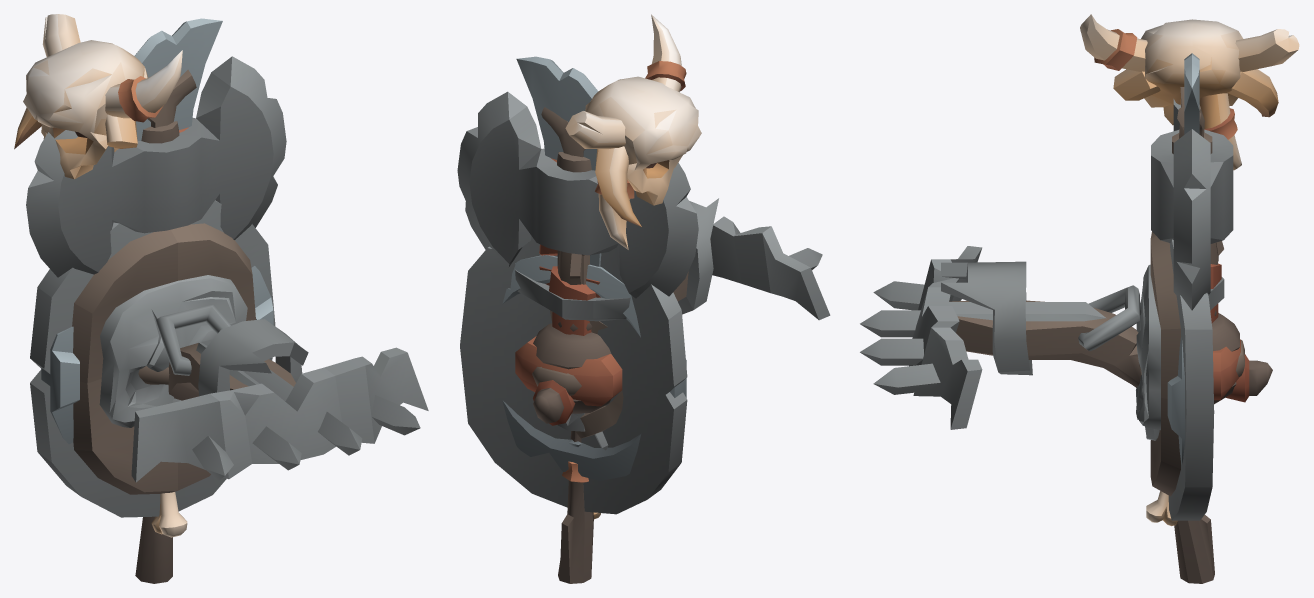
The model's file is weapons.glb.
The picture shows the model from 3 angles, left to right: view 1: azimuth 30°, elevation 25°; view 2: azimuth 150°, elevation 25°; view 3: azimuth 270°, elevation 25°; orthographic projection. The views are drawn at different scales.
Visible parts, largest first — view 1: Skeleton_Shield_Large_A, Skeleton_Crossbow, Skeleton_Axe, Skeleton_Staff, Skeleton_Blade, Skeleton_Shield_Small_A; view 2: Skeleton_Shield_Large_A, Skeleton_Axe, Skeleton_Staff, Skeleton_Crossbow, Skeleton_Blade, Skeleton_Shield_Small_A, smokebomb; view 3: Skeleton_Crossbow, Skeleton_Staff, Skeleton_Shield_Large_A, Skeleton_Axe, Skeleton_Blade, Skeleton_Shield_Small_A, smokebomb.
Part boxes in pixels (x1,y1,x2,y2): Skeleton_Shield_Large_A: (30,200,275,517); Skeleton_Crossbow: (131,304,428,482); Skeleton_Axe: (26,56,286,277); Skeleton_Staff: (14,14,196,583); Skeleton_Blade: (134,18,222,140); Skeleton_Shield_Small_A: (41,266,273,444); Skeleton_Shield_Large_A: (460,236,687,514); Skeleton_Axe: (457,91,698,431); Skeleton_Staff: (541,14,701,583); Skeleton_Crossbow: (533,198,830,425); Skeleton_Blade: (515,56,630,450); Skeleton_Shield_Small_A: (502,255,686,480); smokebomb: (532,322,611,413); Skeleton_Crossbow: (860,246,1272,429); Skeleton_Staff: (1080,14,1299,583); Skeleton_Shield_Large_A: (1136,231,1240,520); Skeleton_Axe: (1151,99,1233,323); Skeleton_Blade: (1184,53,1224,310); Skeleton_Shield_Small_A: (1167,337,1185,464); smokebomb: (1139,310,1244,404).
Size of the model in its own units: 1.11 by 2.1 by 1.51.
2 materials, 2 textured.
